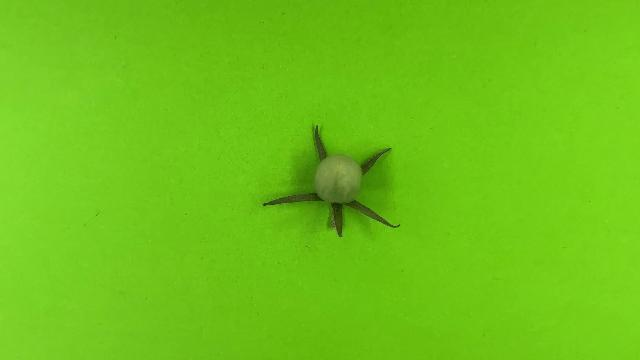Fruit Maturation: (312, 154, 363, 205)
